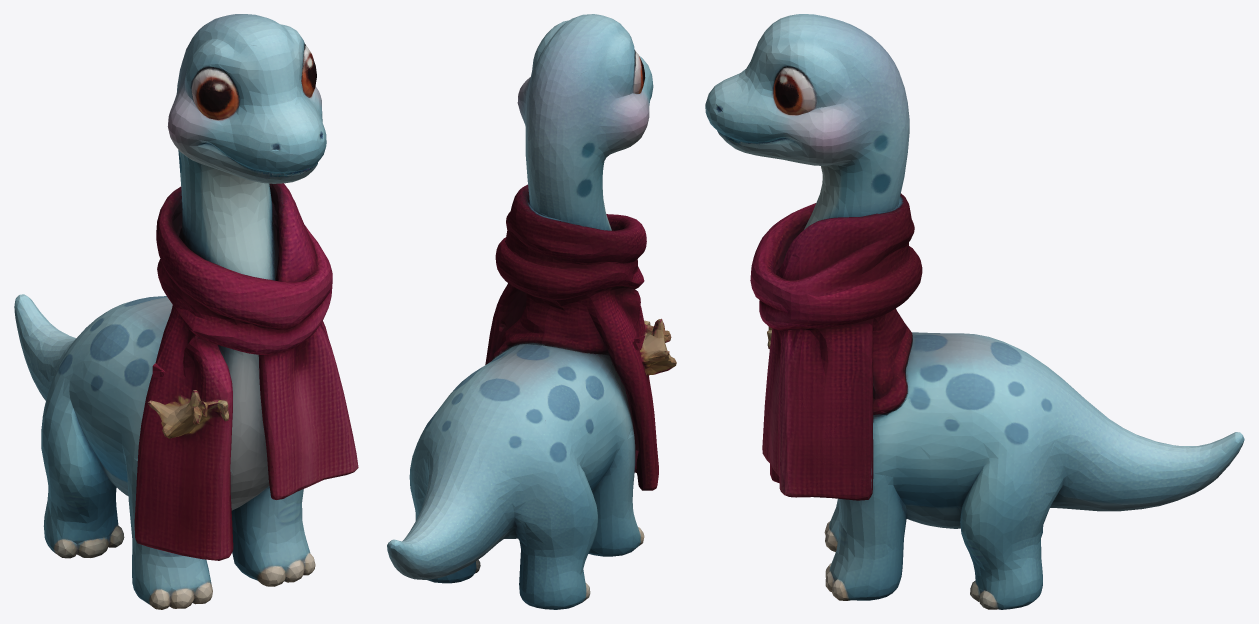
The model's file is mlk_day.glb.
3 views of the same model, side by side, from view 1: azimuth 30°, elevation 25°; view 2: azimuth 150°, elevation 25°; view 3: azimuth 270°, elevation 25° (orthographic). The views are drawn at different scales.
Parts seen in each view (by area): view 1: world; view 2: world; view 3: world.
Boxes of the visible parts, x1=… form: world: x1=14, y1=14, x2=358, y2=609; world: x1=387, y1=14, x2=676, y2=609; world: x1=705, y1=14, x2=1244, y2=609.
Bounding box in the file's own units: 0.3678 × 0.9997 × 0.8895.
1 material, 1 textured.
